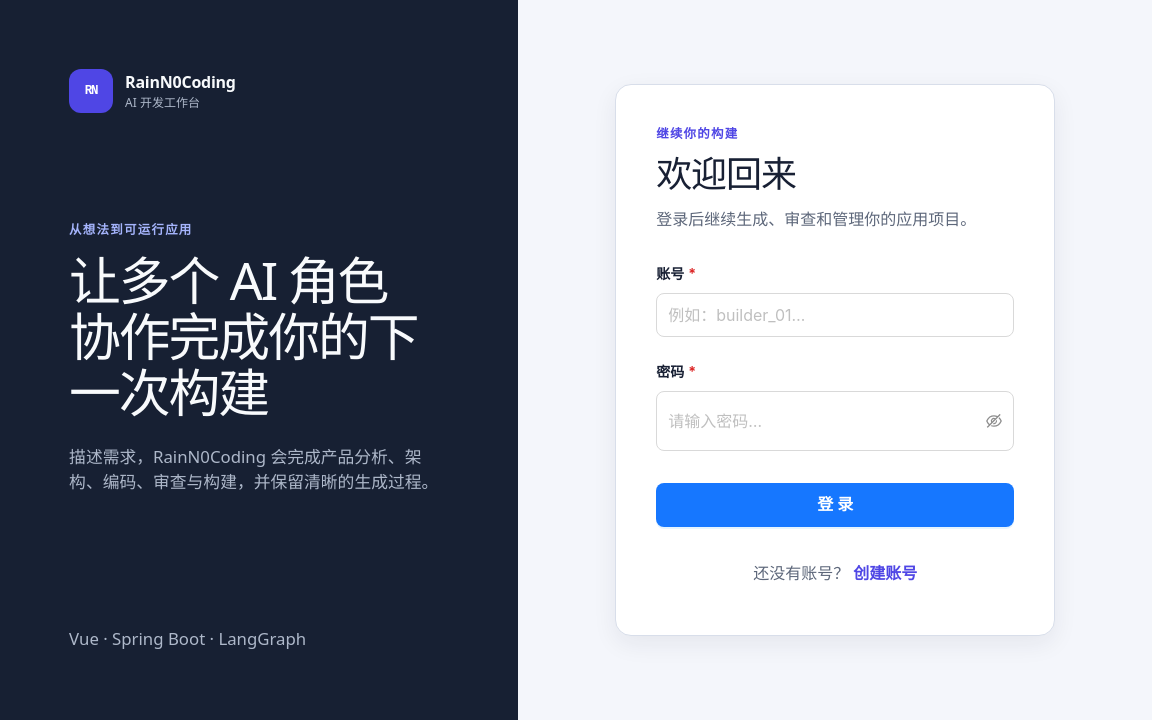
Test: LoginPage › keeps credentials and shows a local error when login fails
The width and height of the screenshot is (1152, 720).
Type "builder" into the field with id "login-account" at (835, 315), box [656,293,1014,337]
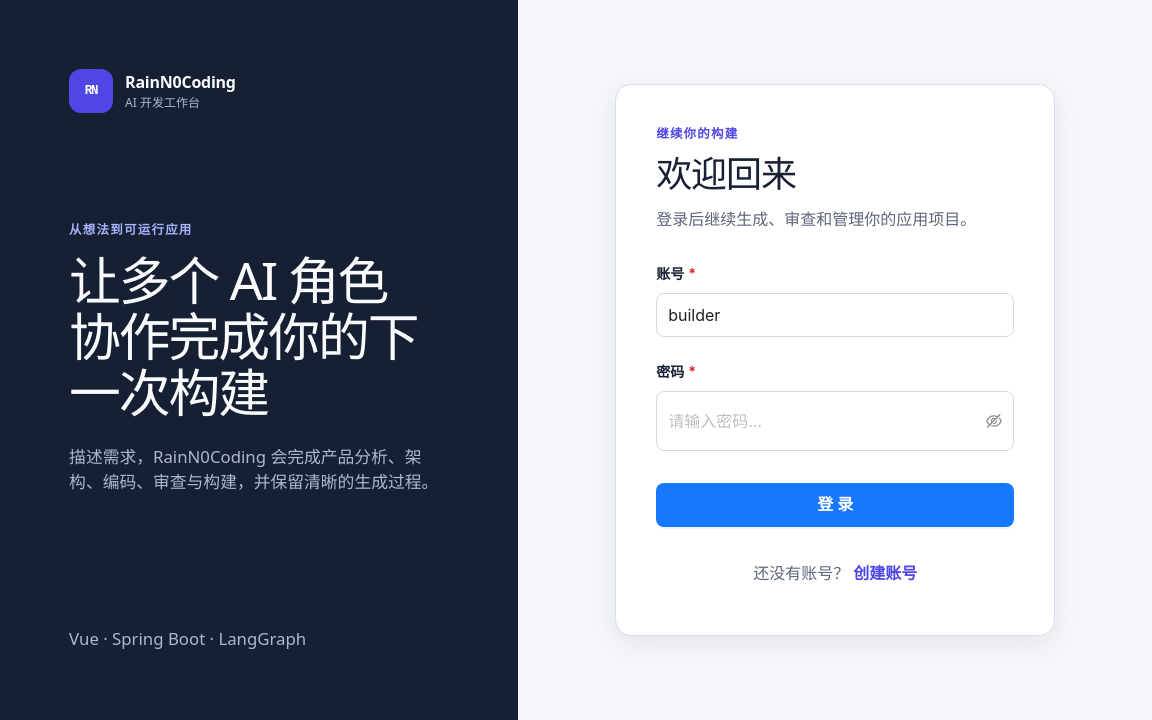
Type "safe-pass-123" into the password field with id "login-password" at (825, 421), box [668,399,982,443]
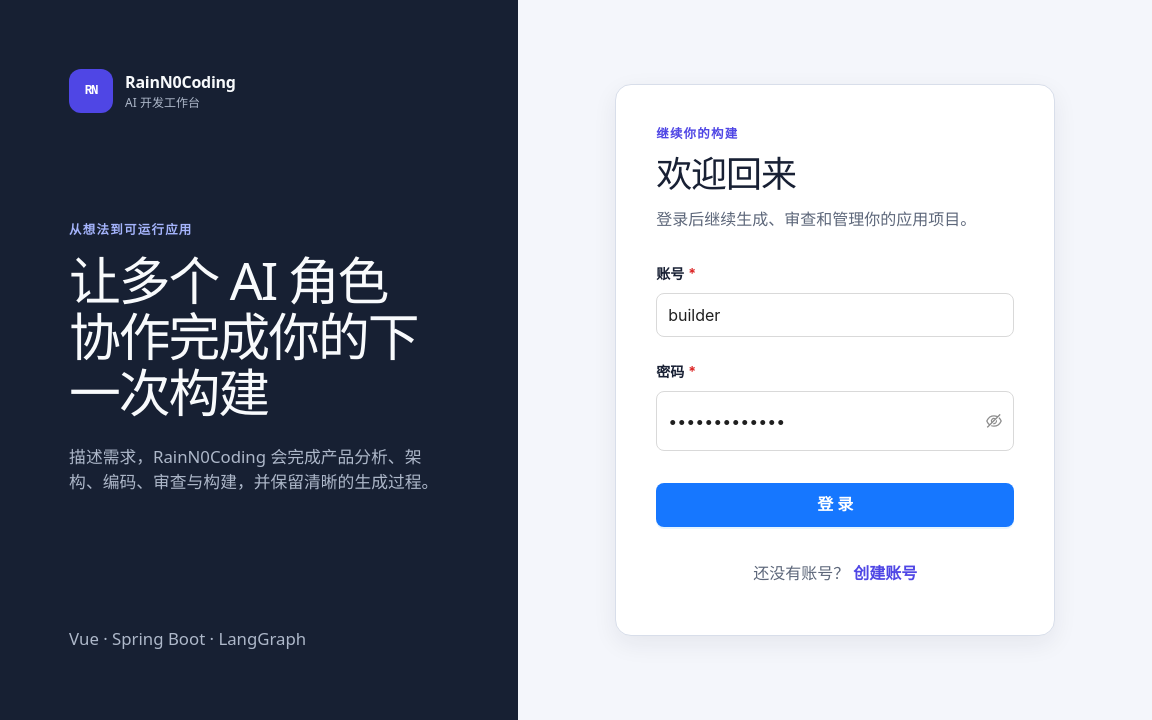
Submit the form, box [656,263,1014,527]
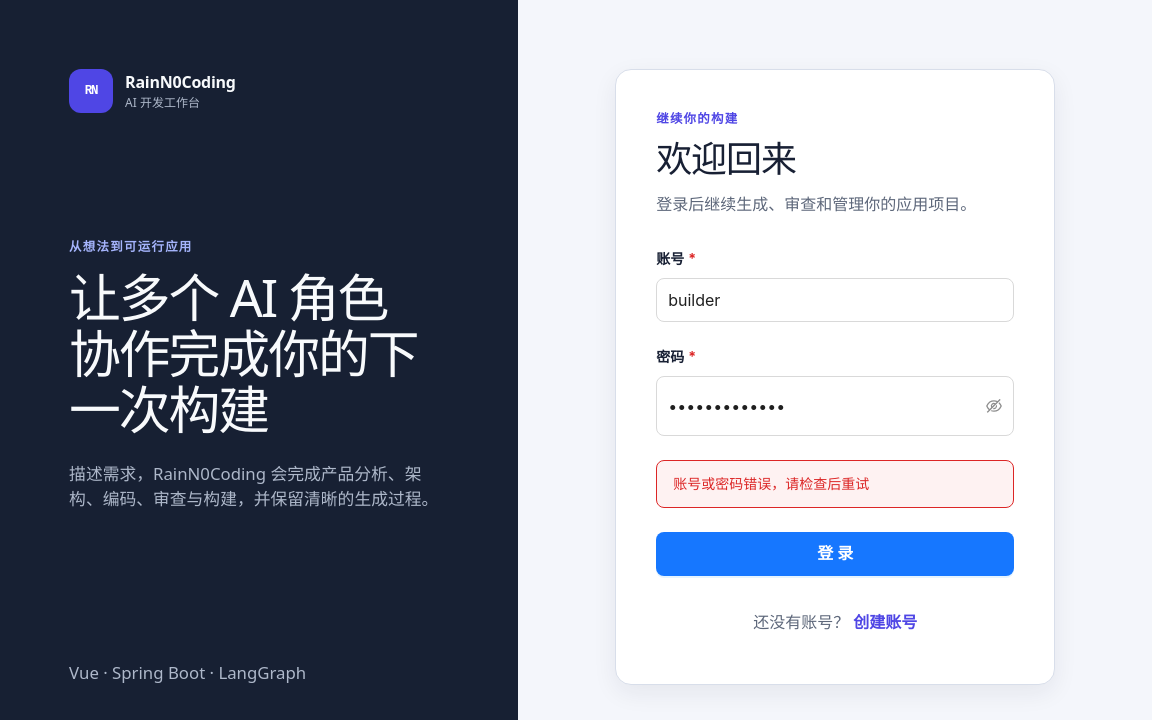
Expected: the submit button is enabled, [656,532,1014,576]
Expected: the message "账号或密码错误，请检查后重试" is shown, [656,460,1014,508]
